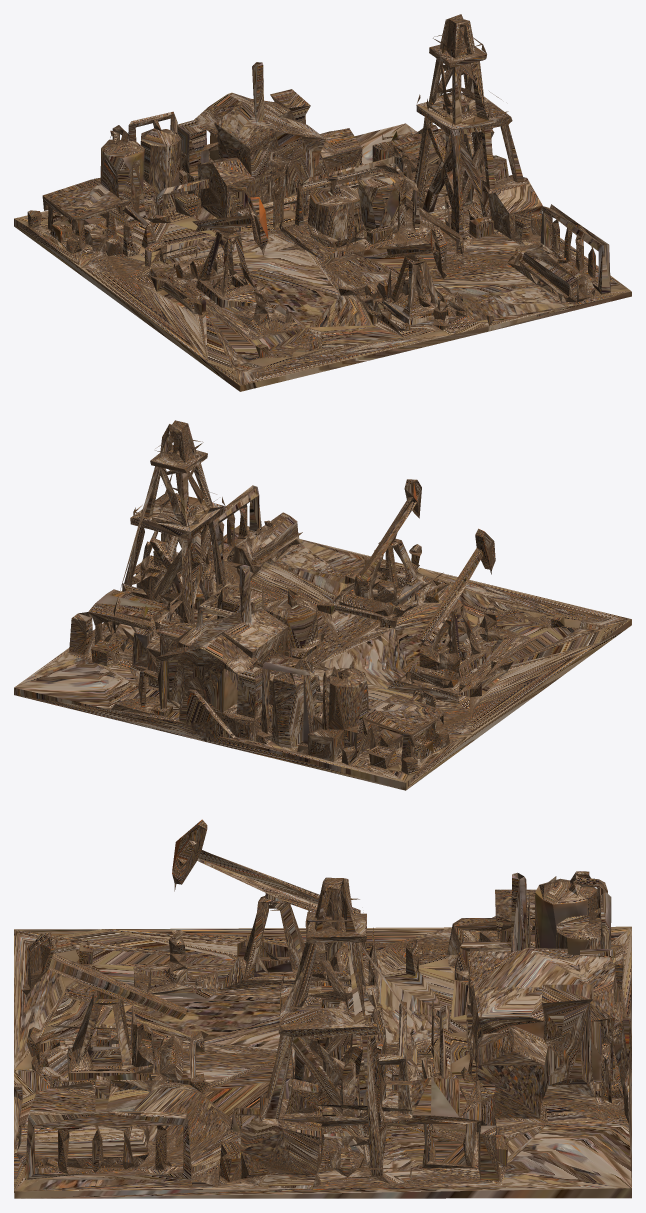
The model's file is oil_rig.glb.
3 renders of one model, top to bottom at view 1: azimuth 30°, elevation 25°; view 2: azimuth 150°, elevation 25°; view 3: azimuth 270°, elevation 25°, orthographic. The views are drawn at different scales.
Parts seen in each view (by area): view 1: normalize; view 2: normalize; view 3: normalize.
Boxes of the visible parts, left/top/right/bottom form: normalize: left=14, top=14, right=631, bottom=391; normalize: left=14, top=420, right=631, bottom=790; normalize: left=14, top=819, right=631, bottom=1198.
Size of the model in its own units: 1 by 0.5052 by 0.9999.
Materials: 1 (1 with a texture image).
